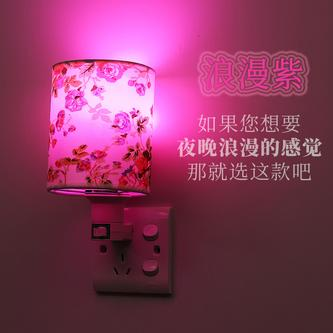switch: (135, 261, 160, 277), (143, 220, 160, 239)
